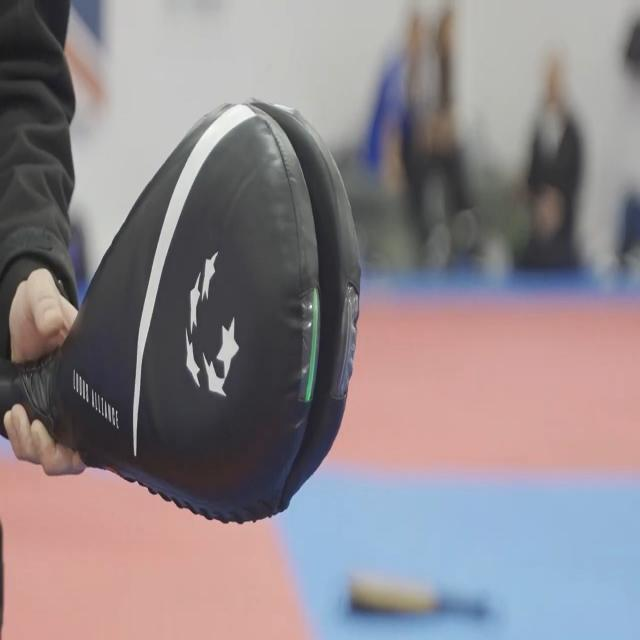paddle: (69, 96, 368, 530)
